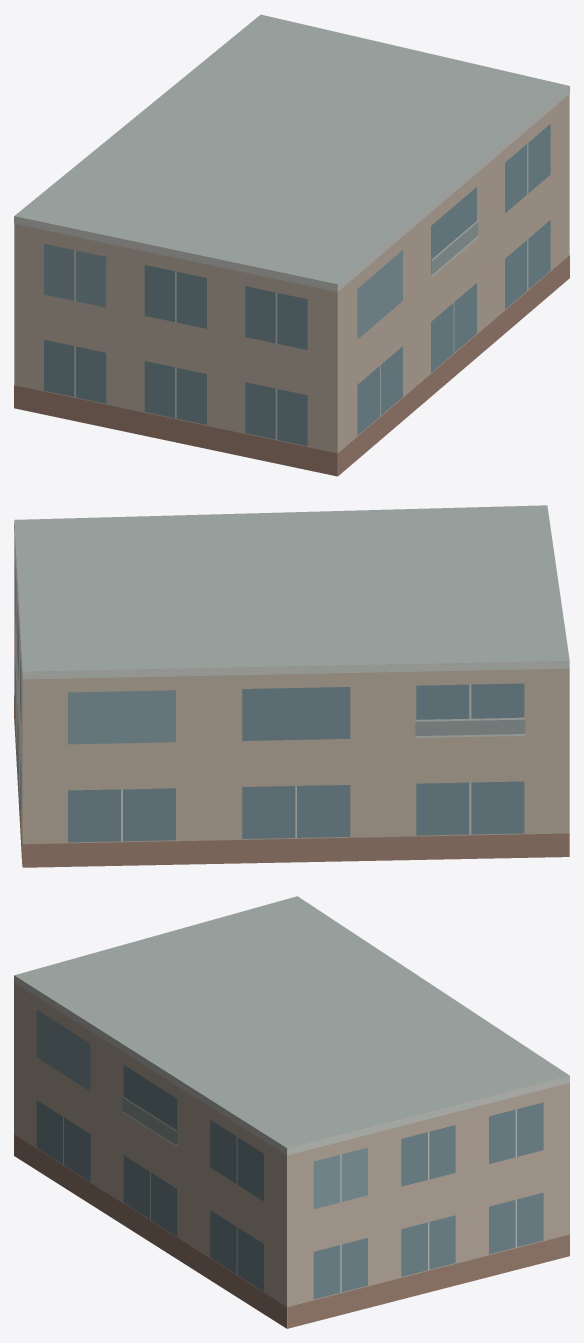
Rendered from survey-upis-32624864.glb.
3 views of the same model, one above another, from view 1: azimuth 30°, elevation 25°; view 2: azimuth 150°, elevation 25°; view 3: azimuth 270°, elevation 25° (orthographic). The views are drawn at different scales.
Parts seen in each view (by area): view 1: survey-upis-32624864.tmp; view 2: survey-upis-32624864.tmp; view 3: survey-upis-32624864.tmp.
Part boxes in pixels (box(x1,y1,x2,y2)): survey-upis-32624864.tmp: box(14, 14, 569, 476); survey-upis-32624864.tmp: box(14, 505, 569, 867); survey-upis-32624864.tmp: box(14, 896, 569, 1328).
Size of the model in its own units: 18.29 by 6.1 by 17.03.
